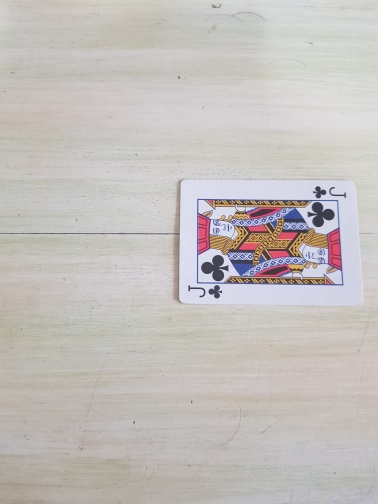jack: (177, 178, 364, 308)
